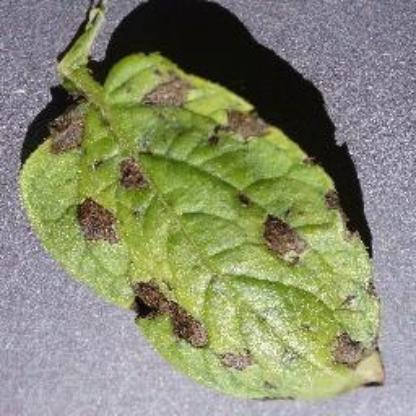Early-Blight: (17, 10, 388, 398)
